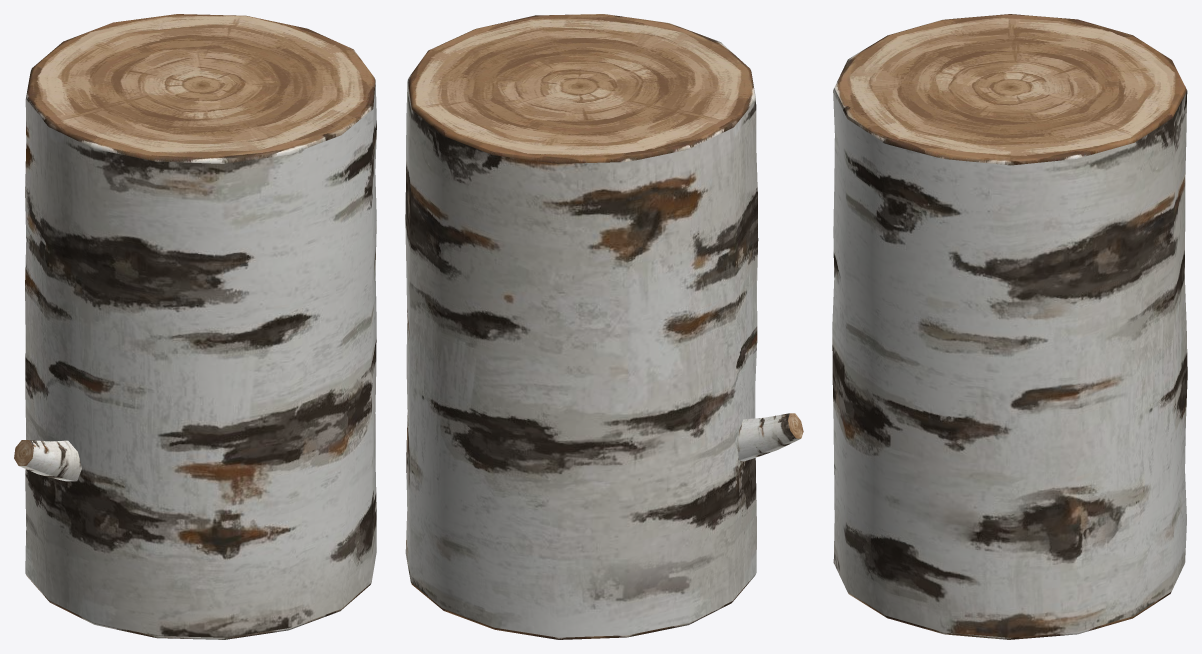
The model's file is birch_log_03.fbx.
The picture shows the model from 3 angles, left to right: view 1: azimuth 30°, elevation 25°; view 2: azimuth 150°, elevation 25°; view 3: azimuth 270°, elevation 25°; orthographic projection.
Parts seen in each view (by area): view 1: SM_Log_003; view 2: SM_Log_003; view 3: SM_Log_003.
Boxes of the visible parts, <box> form: SM_Log_003: <box>14,14,376,639</box>; SM_Log_003: <box>405,14,803,639</box>; SM_Log_003: <box>832,14,1187,639</box>.
Size of the model in its own units: 2.35 by 3.04 by 2.04.
Materials: 2 (2 with a texture image).
